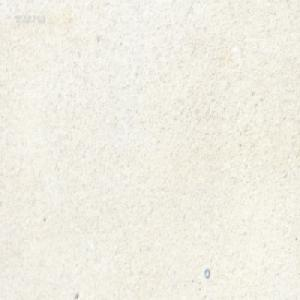Washer: (203, 267, 210, 278)
